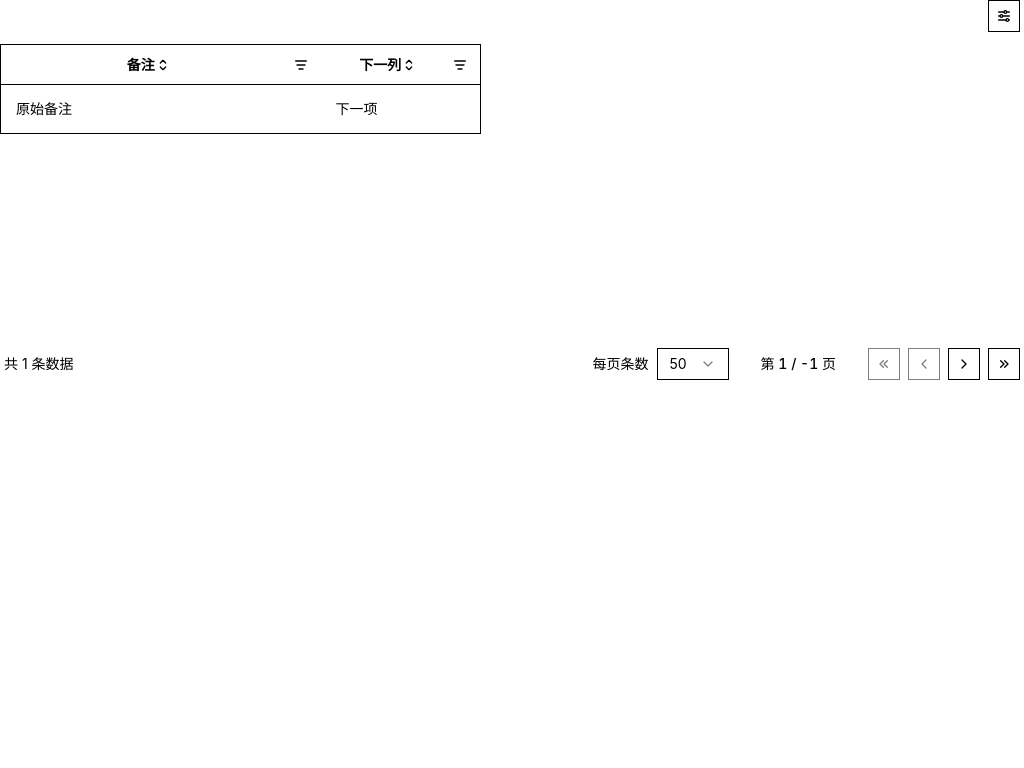
Scenario: DataTableEditableTextareaCell › commits with Tab, navigates, and cancels the next session with Escape
Double-click the cell "原始备注": (44, 108) [0,85,320,133]
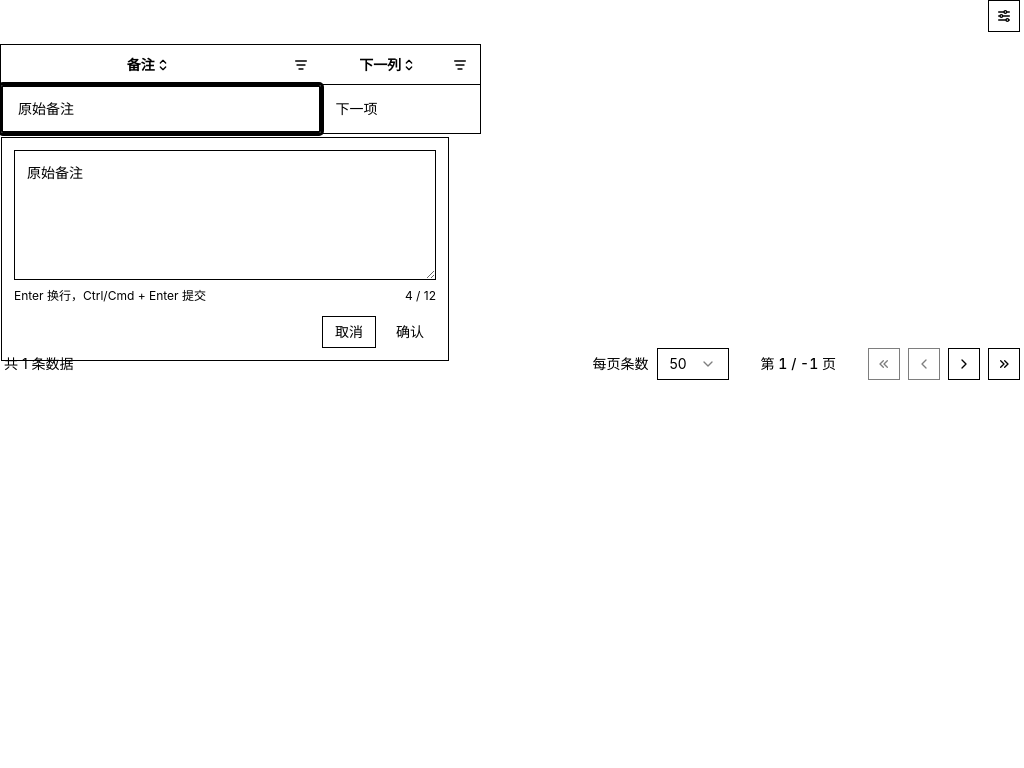
Replace the text in the text box named "编辑备注" with "Tab 提交": (225, 215) [15,151,435,279]
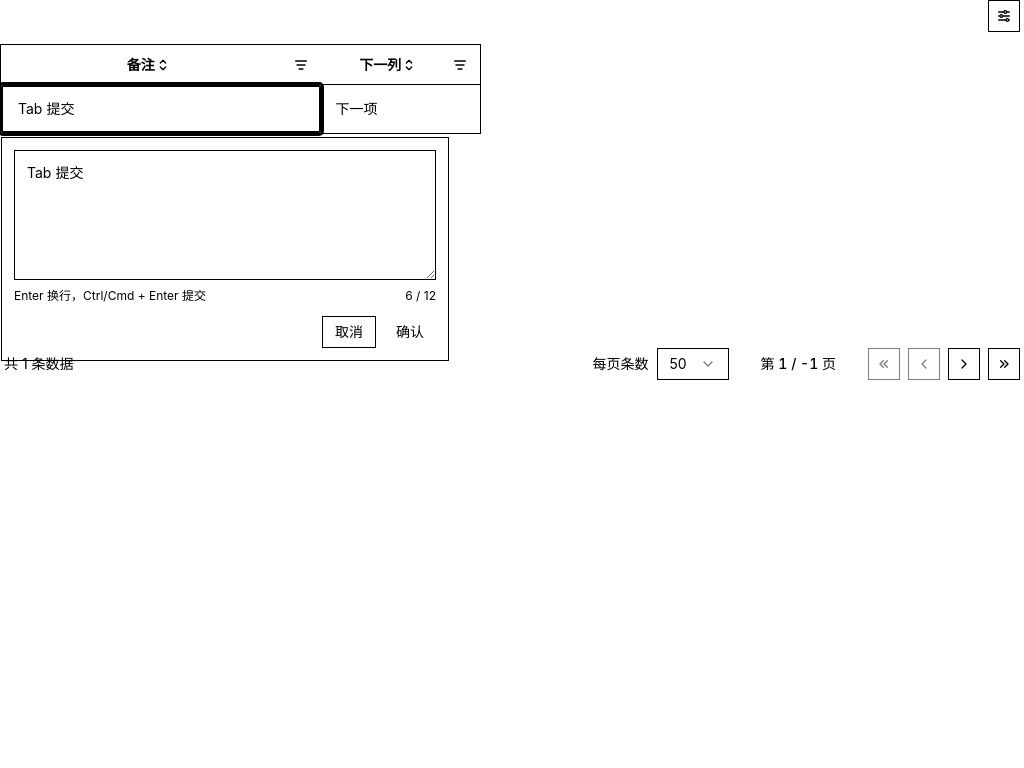
Press Tab
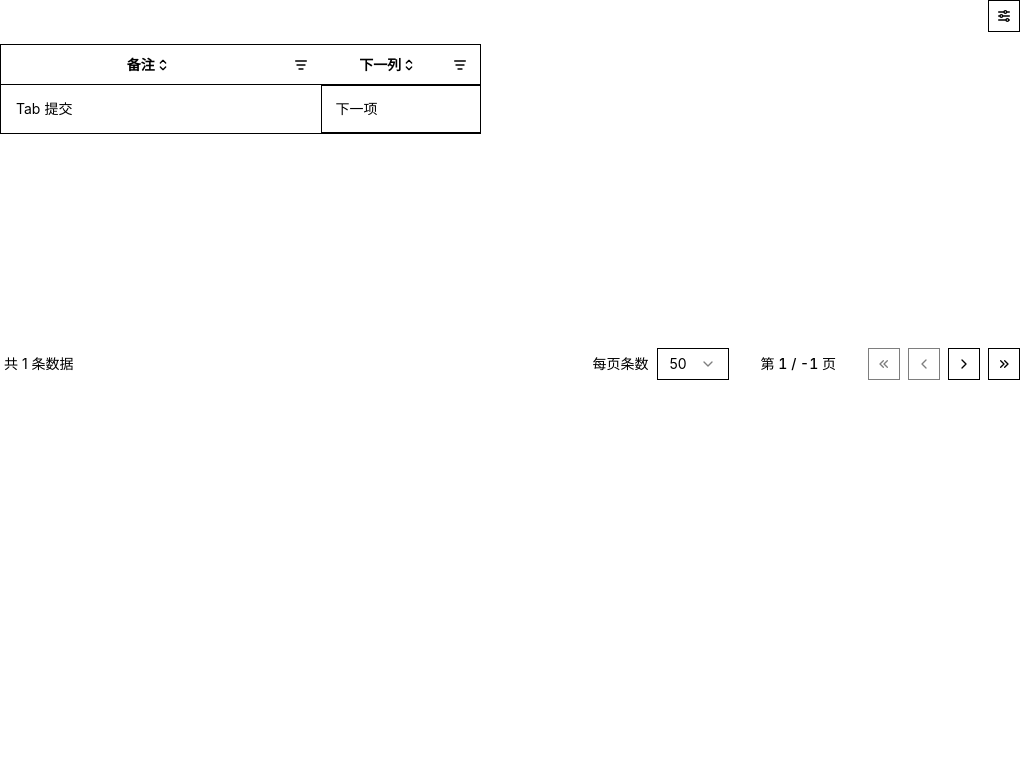
Result: the cell "Tab 提交" is shown
Double-click the cell "Tab 提交": (44, 108) [0,85,320,133]
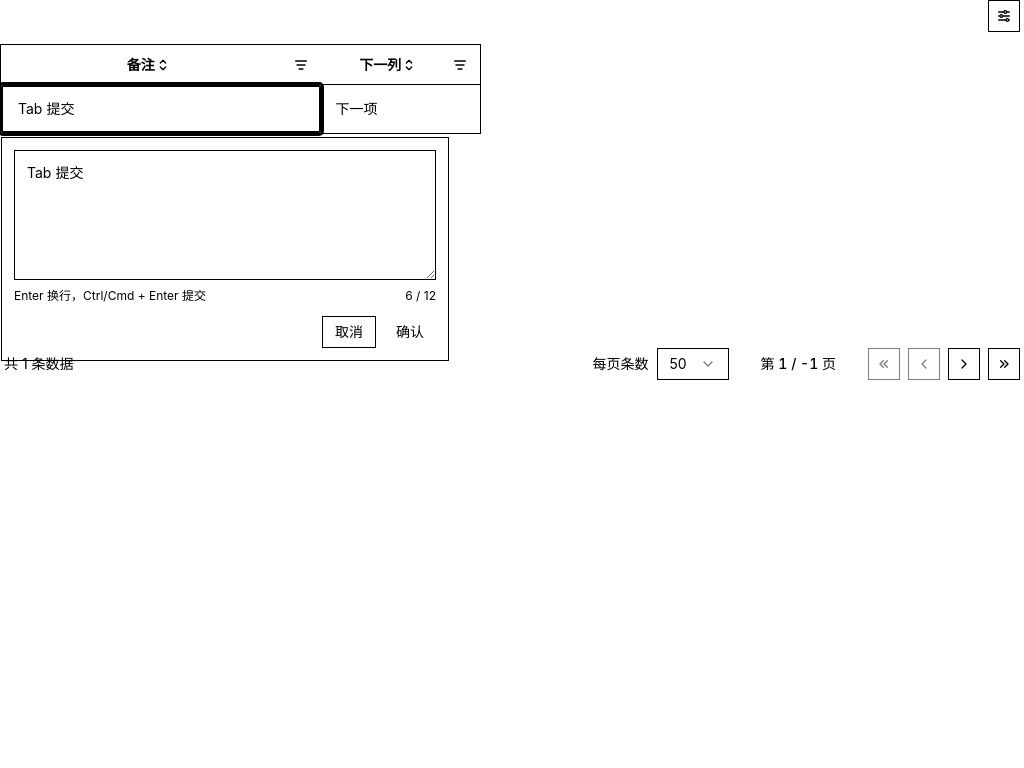
Replace the text in the text box named "编辑备注" with "不应保存": (225, 215) [15,151,435,279]
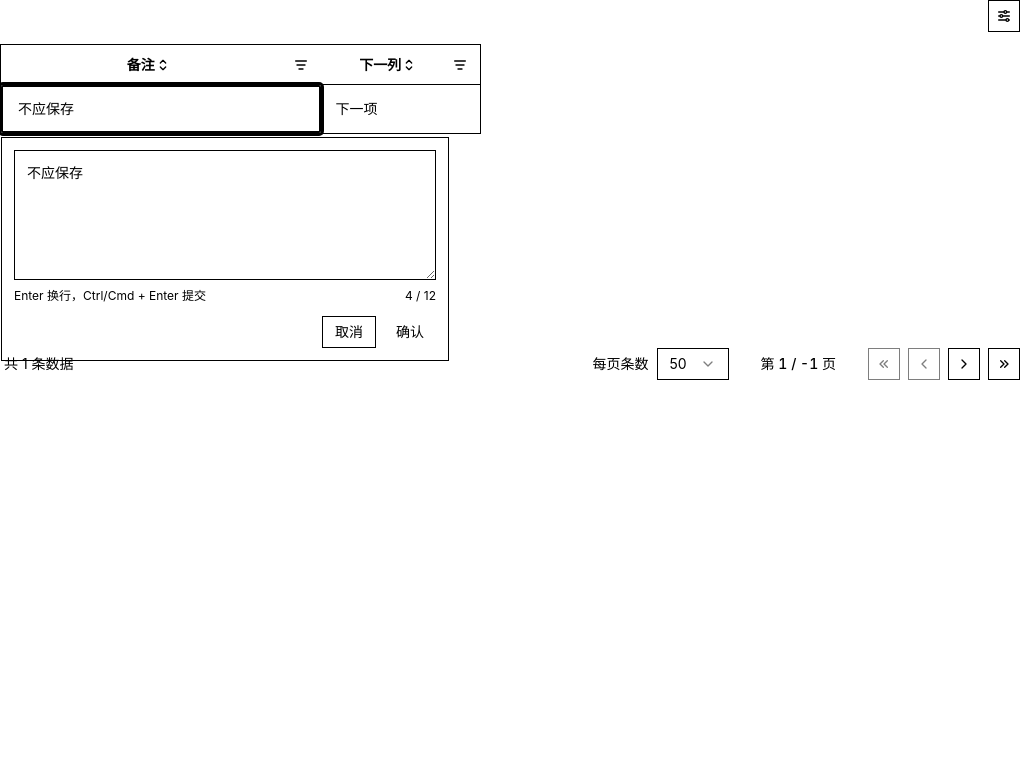
Press Escape
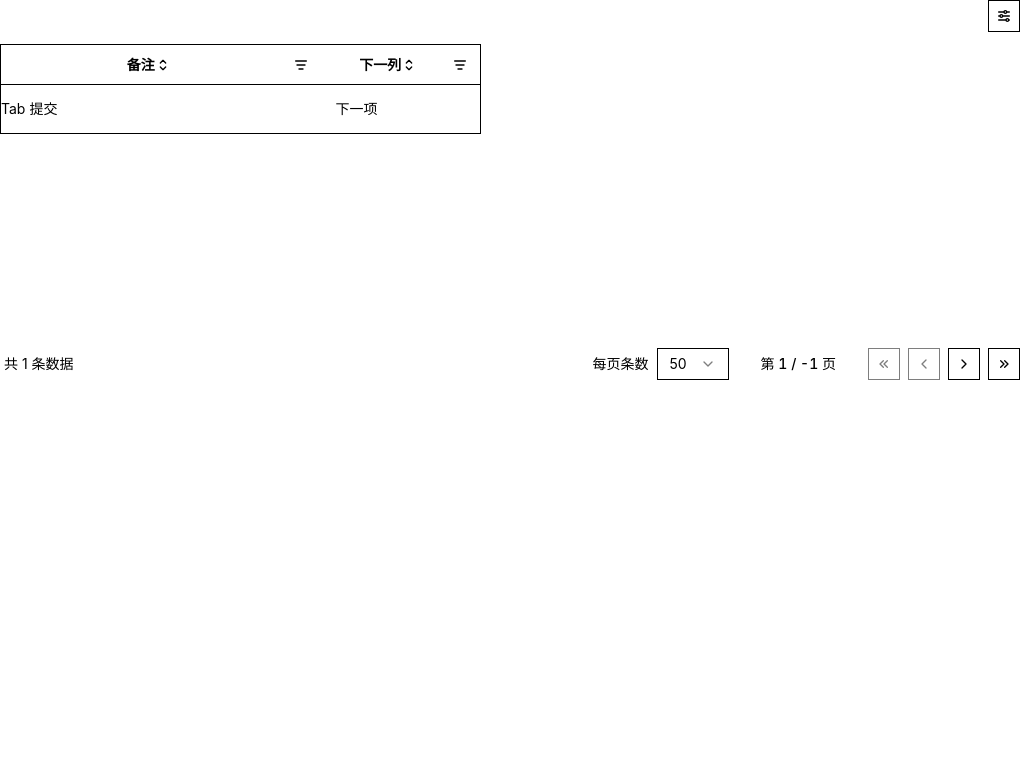
Result: the cell "Tab 提交" is shown at [0,85,320,133]
